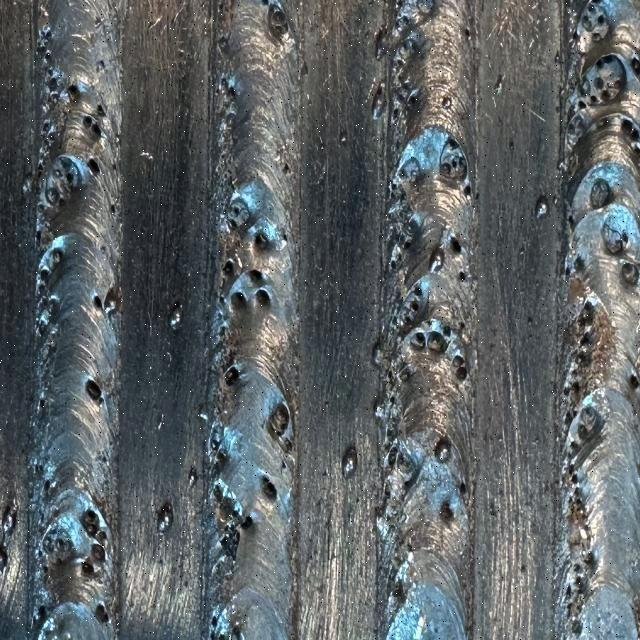Porosity: (394, 127, 471, 195), (562, 295, 598, 422), (40, 155, 85, 208), (42, 513, 90, 561), (389, 185, 424, 247), (576, 0, 609, 53), (592, 55, 626, 103), (595, 113, 640, 149), (400, 278, 430, 332), (384, 438, 416, 482), (39, 115, 59, 170), (212, 478, 236, 520), (81, 508, 106, 541), (220, 520, 240, 561), (268, 0, 289, 39), (578, 403, 599, 442), (268, 402, 290, 437), (210, 432, 230, 467), (228, 197, 250, 228), (209, 608, 228, 640), (590, 178, 610, 208), (566, 112, 585, 141), (398, 32, 422, 54), (36, 33, 54, 62), (219, 72, 236, 101), (44, 65, 61, 93), (566, 482, 582, 510), (85, 378, 102, 402), (626, 50, 640, 79), (452, 355, 468, 380), (262, 477, 278, 501), (570, 248, 586, 272), (428, 332, 448, 351), (384, 422, 398, 448), (81, 557, 101, 575), (222, 258, 240, 278), (230, 292, 248, 312), (394, 12, 412, 32), (255, 288, 271, 310), (410, 328, 426, 350), (584, 548, 598, 573), (254, 227, 269, 250), (90, 288, 104, 312), (439, 500, 454, 522), (95, 600, 109, 623), (395, 73, 411, 93), (572, 563, 586, 585), (399, 358, 412, 381), (225, 365, 239, 385), (248, 270, 265, 286), (231, 622, 246, 640), (50, 247, 64, 266), (578, 75, 590, 97), (40, 295, 60, 307), (92, 543, 105, 561), (394, 52, 406, 71), (231, 502, 242, 522), (390, 102, 401, 121), (395, 87, 408, 103), (88, 158, 100, 175), (34, 605, 46, 622), (39, 25, 51, 42), (568, 465, 578, 485), (68, 83, 79, 101), (240, 515, 254, 529), (31, 460, 44, 475), (409, 88, 419, 107), (39, 265, 51, 280), (462, 20, 471, 40), (450, 237, 461, 253), (441, 323, 452, 338), (568, 440, 581, 452), (36, 278, 45, 294), (91, 123, 101, 137), (568, 213, 575, 232), (84, 115, 94, 128), (96, 103, 105, 117), (281, 232, 288, 248), (44, 480, 54, 491), (96, 60, 105, 72), (284, 438, 292, 451), (589, 95, 600, 104), (282, 163, 291, 174), (35, 547, 42, 560), (36, 227, 42, 242), (578, 98, 586, 108), (386, 369, 394, 379), (460, 482, 466, 495), (389, 393, 395, 406), (565, 267, 572, 278), (459, 270, 466, 280), (110, 202, 116, 213), (260, 0, 269, 7), (41, 563, 48, 572), (39, 398, 45, 408), (281, 458, 286, 469), (566, 585, 571, 596), (460, 322, 465, 331)
Spatters: (601, 212, 628, 252), (0, 500, 18, 546), (102, 285, 122, 318), (341, 445, 358, 478), (156, 502, 174, 533), (371, 83, 385, 120), (434, 438, 451, 462), (621, 262, 639, 284), (429, 248, 444, 273), (169, 303, 182, 330), (371, 340, 384, 367), (390, 243, 402, 270), (535, 195, 548, 218), (374, 397, 386, 420), (0, 542, 8, 571), (22, 172, 32, 195), (188, 467, 198, 487), (630, 370, 640, 388), (494, 75, 502, 95), (375, 45, 384, 60), (442, 97, 452, 110), (339, 130, 348, 142), (158, 413, 164, 431), (558, 160, 566, 173), (140, 152, 154, 159), (509, 138, 515, 152), (200, 412, 208, 421)
